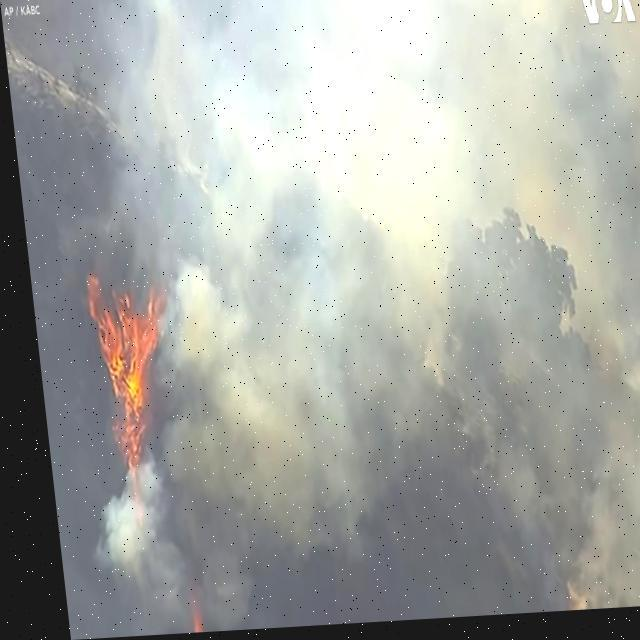Fire: (76, 278, 172, 474)
